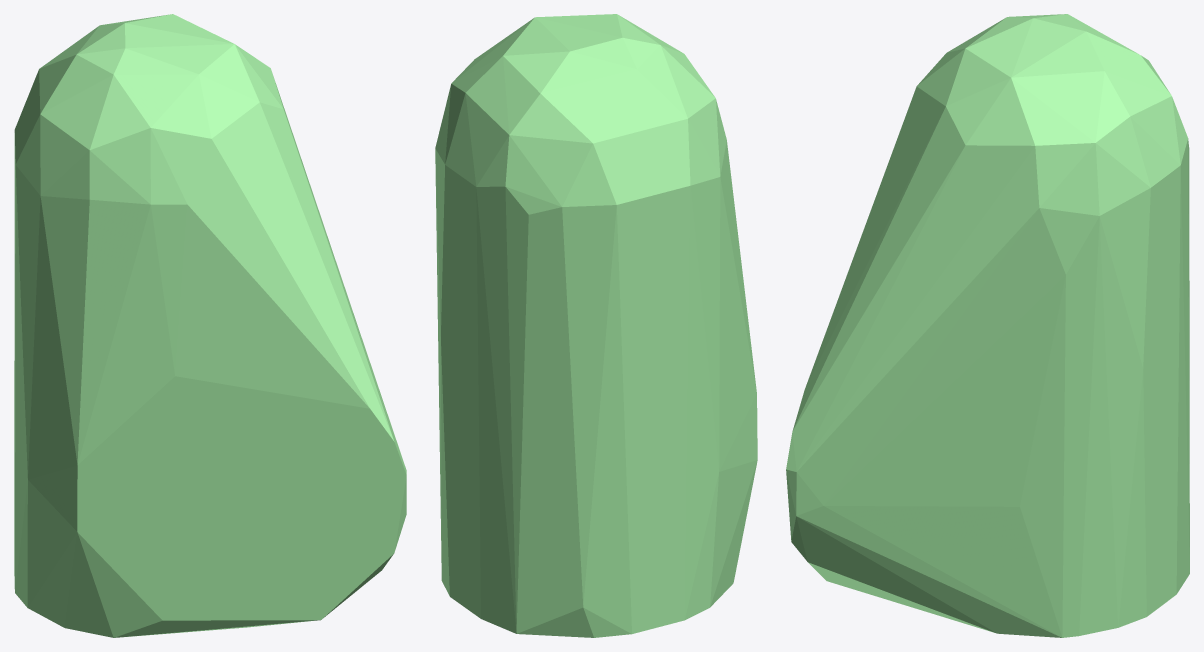
The model's file is dvkr_robot_R_link3_respondable_coll_2.dae.
3 views of the same model, side by side, from view 1: azimuth 30°, elevation 25°; view 2: azimuth 150°, elevation 25°; view 3: azimuth 270°, elevation 25° (orthographic).
Parts seen in each view (by area): view 1: Node_0000023514CD7BC0; view 2: Node_0000023514CD7BC0; view 3: Node_0000023514CD7BC0.
Boxes of the visible parts, x1,y1,x2,y2 form: Node_0000023514CD7BC0: [14, 14, 406, 637]; Node_0000023514CD7BC0: [435, 14, 757, 637]; Node_0000023514CD7BC0: [786, 14, 1189, 637].
Size of the model in its own units: 0.1127 by 0.2247 by 0.1516.
